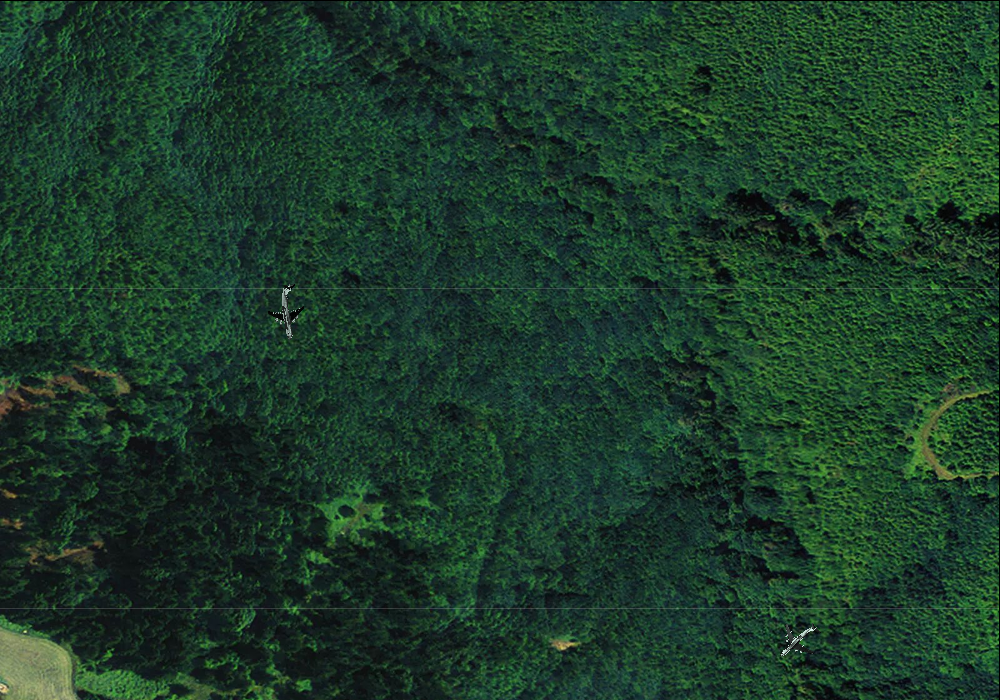plane: (766, 609, 831, 674), (261, 280, 316, 343)
